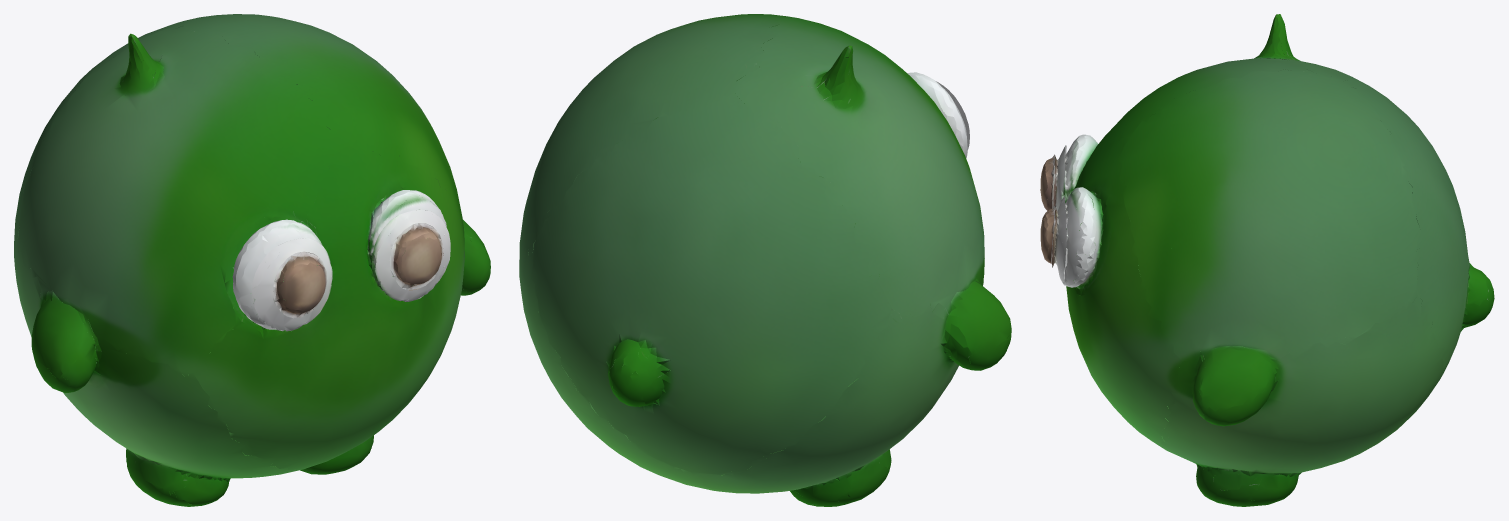
Rendered from slime.glb.
3 renders of one model, left to right at view 1: azimuth 30°, elevation 25°; view 2: azimuth 150°, elevation 25°; view 3: azimuth 270°, elevation 25°, orthographic. The views are drawn at different scales.
Visible parts, largest first — view 1: BeastSlime; view 2: BeastSlime; view 3: BeastSlime.
Boxes of the visible parts, x1,y1,x2,y2 form: BeastSlime: [14, 14, 490, 506]; BeastSlime: [519, 14, 1011, 506]; BeastSlime: [1040, 14, 1494, 506].
Size of the model in its own units: 1.9 by 1.89 by 1.89.
Materials: 1 (1 with a texture image).
